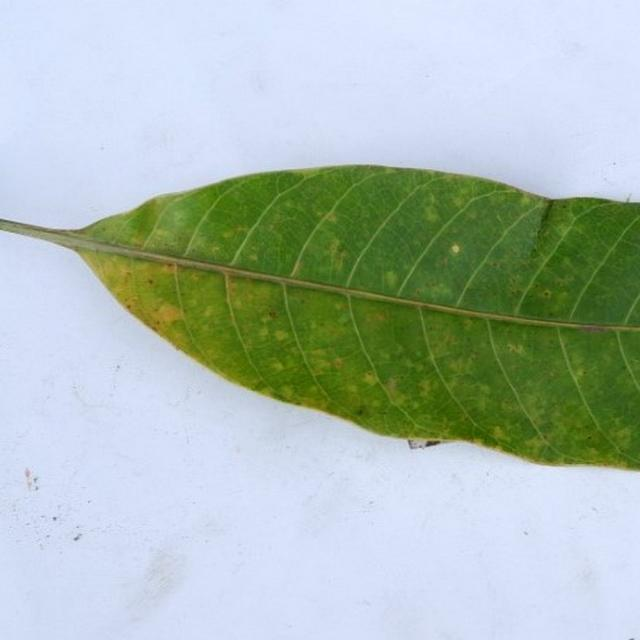Mango: (0, 166, 639, 468)
Powdery_Mildew: (325, 238, 348, 274), (381, 267, 406, 300), (151, 302, 184, 325), (421, 281, 453, 300), (578, 324, 617, 334), (447, 357, 470, 373), (446, 240, 467, 257), (554, 273, 575, 288), (152, 228, 174, 241), (384, 270, 399, 289), (424, 204, 439, 222), (290, 258, 304, 277), (615, 427, 633, 441), (506, 342, 525, 355), (417, 380, 433, 394), (129, 233, 146, 246), (362, 371, 377, 385), (322, 211, 338, 223), (160, 261, 177, 272), (280, 385, 294, 398), (337, 311, 351, 324), (273, 329, 288, 341), (371, 311, 387, 322), (385, 378, 398, 391), (202, 306, 216, 318), (491, 426, 505, 438), (560, 257, 574, 269), (231, 296, 243, 309), (221, 229, 235, 239), (232, 224, 246, 234), (332, 358, 344, 369), (227, 281, 238, 293), (271, 362, 284, 372), (258, 327, 269, 338), (333, 301, 345, 311), (382, 167, 398, 174), (247, 253, 259, 262), (541, 289, 552, 298), (510, 288, 521, 297), (576, 368, 586, 377), (268, 310, 278, 319), (356, 408, 364, 416), (147, 278, 154, 285), (125, 304, 132, 310), (587, 435, 593, 441)
